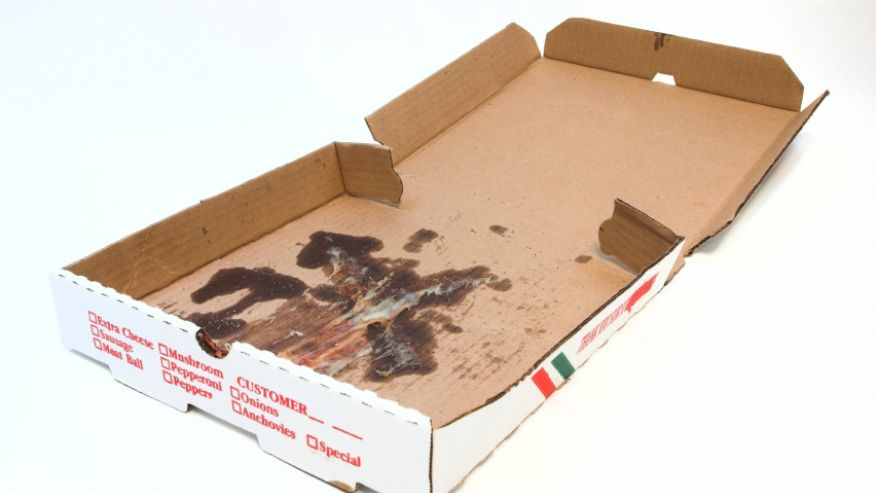Rec_Paper: (46, 15, 835, 493)
